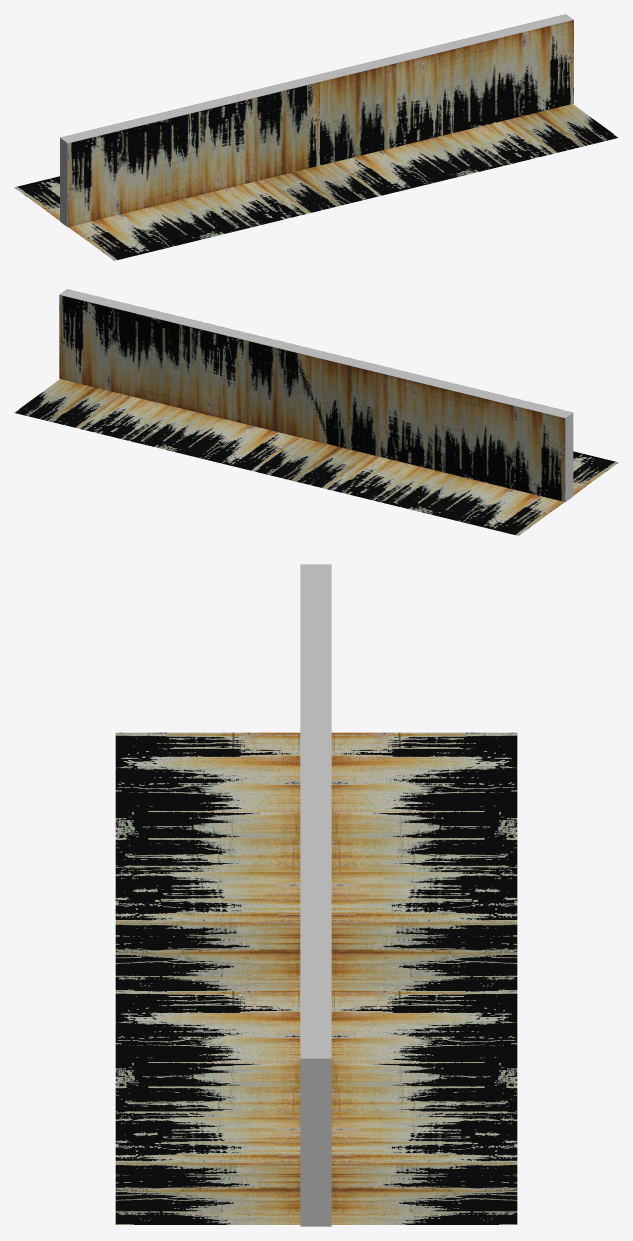
File: TiledBrick11.FBX
3 renders of one model, top to bottom at view 1: azimuth 30°, elevation 25°; view 2: azimuth 150°, elevation 25°; view 3: azimuth 270°, elevation 25°, orthographic. The views are drawn at different scales.
Visible parts, largest first — view 1: TiledBrick11; view 2: TiledBrick11; view 3: TiledBrick11.
Boxes of the visible parts, left/top/right/bottom form: TiledBrick11: left=14, top=14, right=618, bottom=260; TiledBrick11: left=14, top=289, right=618, bottom=535; TiledBrick11: left=115, top=564, right=517, bottom=1226.
Size of the model in its own units: 765 by 121 by 263.
